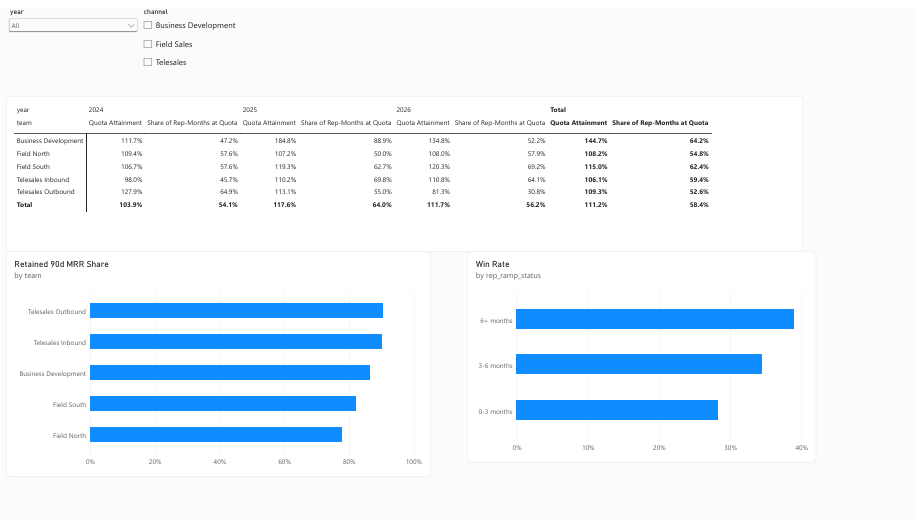

Layout of this report page (visuals, bound fields, positions):
{"tool":"powerbi","page":{"name":"Teams and quota","canvas":[1920,1080],"ordinal":2},"visuals":[{"type":"slicer","fields":{"Values":["dim_date.year"]},"box":[10,0,280,186],"z":0},{"type":"slicer","fields":{"Values":["dim_rep.channel"]},"box":[290,0,280,186],"z":1},{"type":"pivotTable","fields":{"Columns":["dim_date.year"],"Rows":["dim_rep.team"],"Values":["_Measures.Quota Attainment","_Measures.Share of Rep-Months at Quota"]},"box":[10,186,1668,326],"z":2},{"type":"clusteredBarChart","fields":{"Category":["dim_rep.team"],"Y":["_Measures.Retained 90d MRR Share"]},"box":[10,512,888,472],"z":3},{"type":"clusteredBarChart","fields":{"Category":["fact_opportunity.rep_ramp_status"],"Y":["_Measures.Win Rate"]},"box":[976,512,730,442],"z":4}]}

Visuals, with their boxes in screenshot pixels (x1, y1, x2, y2), scaled from the page's 1920x1080 canvas onto the 916x519 screenshot:
slicer - dim_date.year: rect(5, 0, 138, 89)
slicer - dim_rep.channel: rect(138, 0, 272, 89)
pivotTable - dim_date.year x dim_rep.team: rect(5, 89, 801, 246)
clusteredBarChart - dim_rep.team x _Measures.Retained 90d MRR Share: rect(5, 246, 428, 473)
clusteredBarChart - fact_opportunity.rep_ramp_status x _Measures.Win Rate: rect(466, 246, 814, 458)
